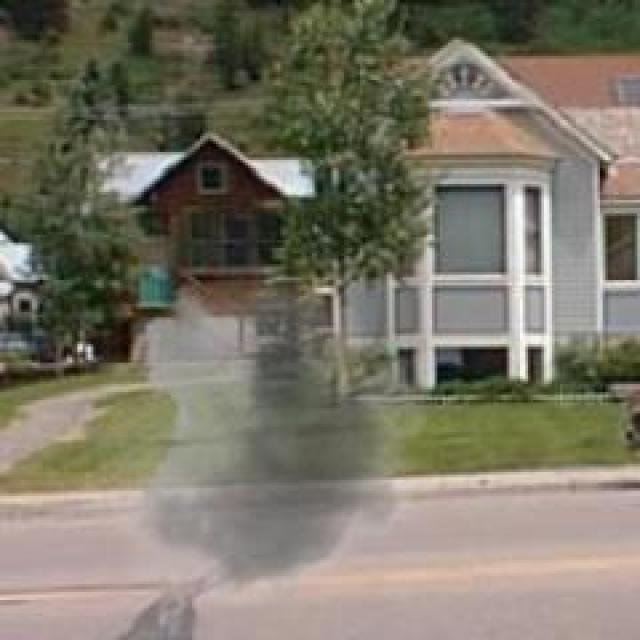Smoke: (85, 290, 393, 640)
